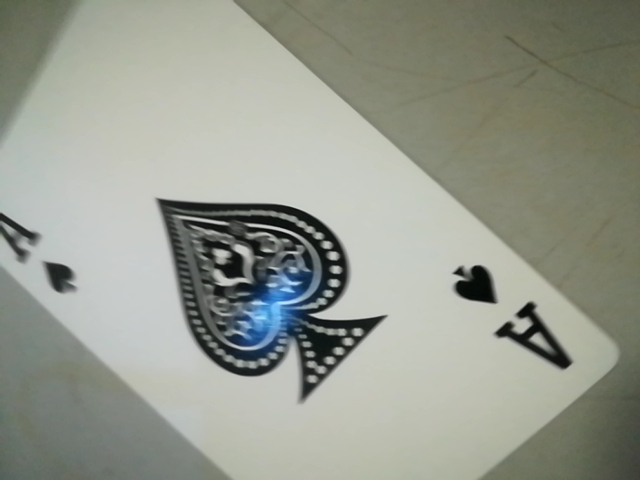ht a: (442, 250, 589, 378)
